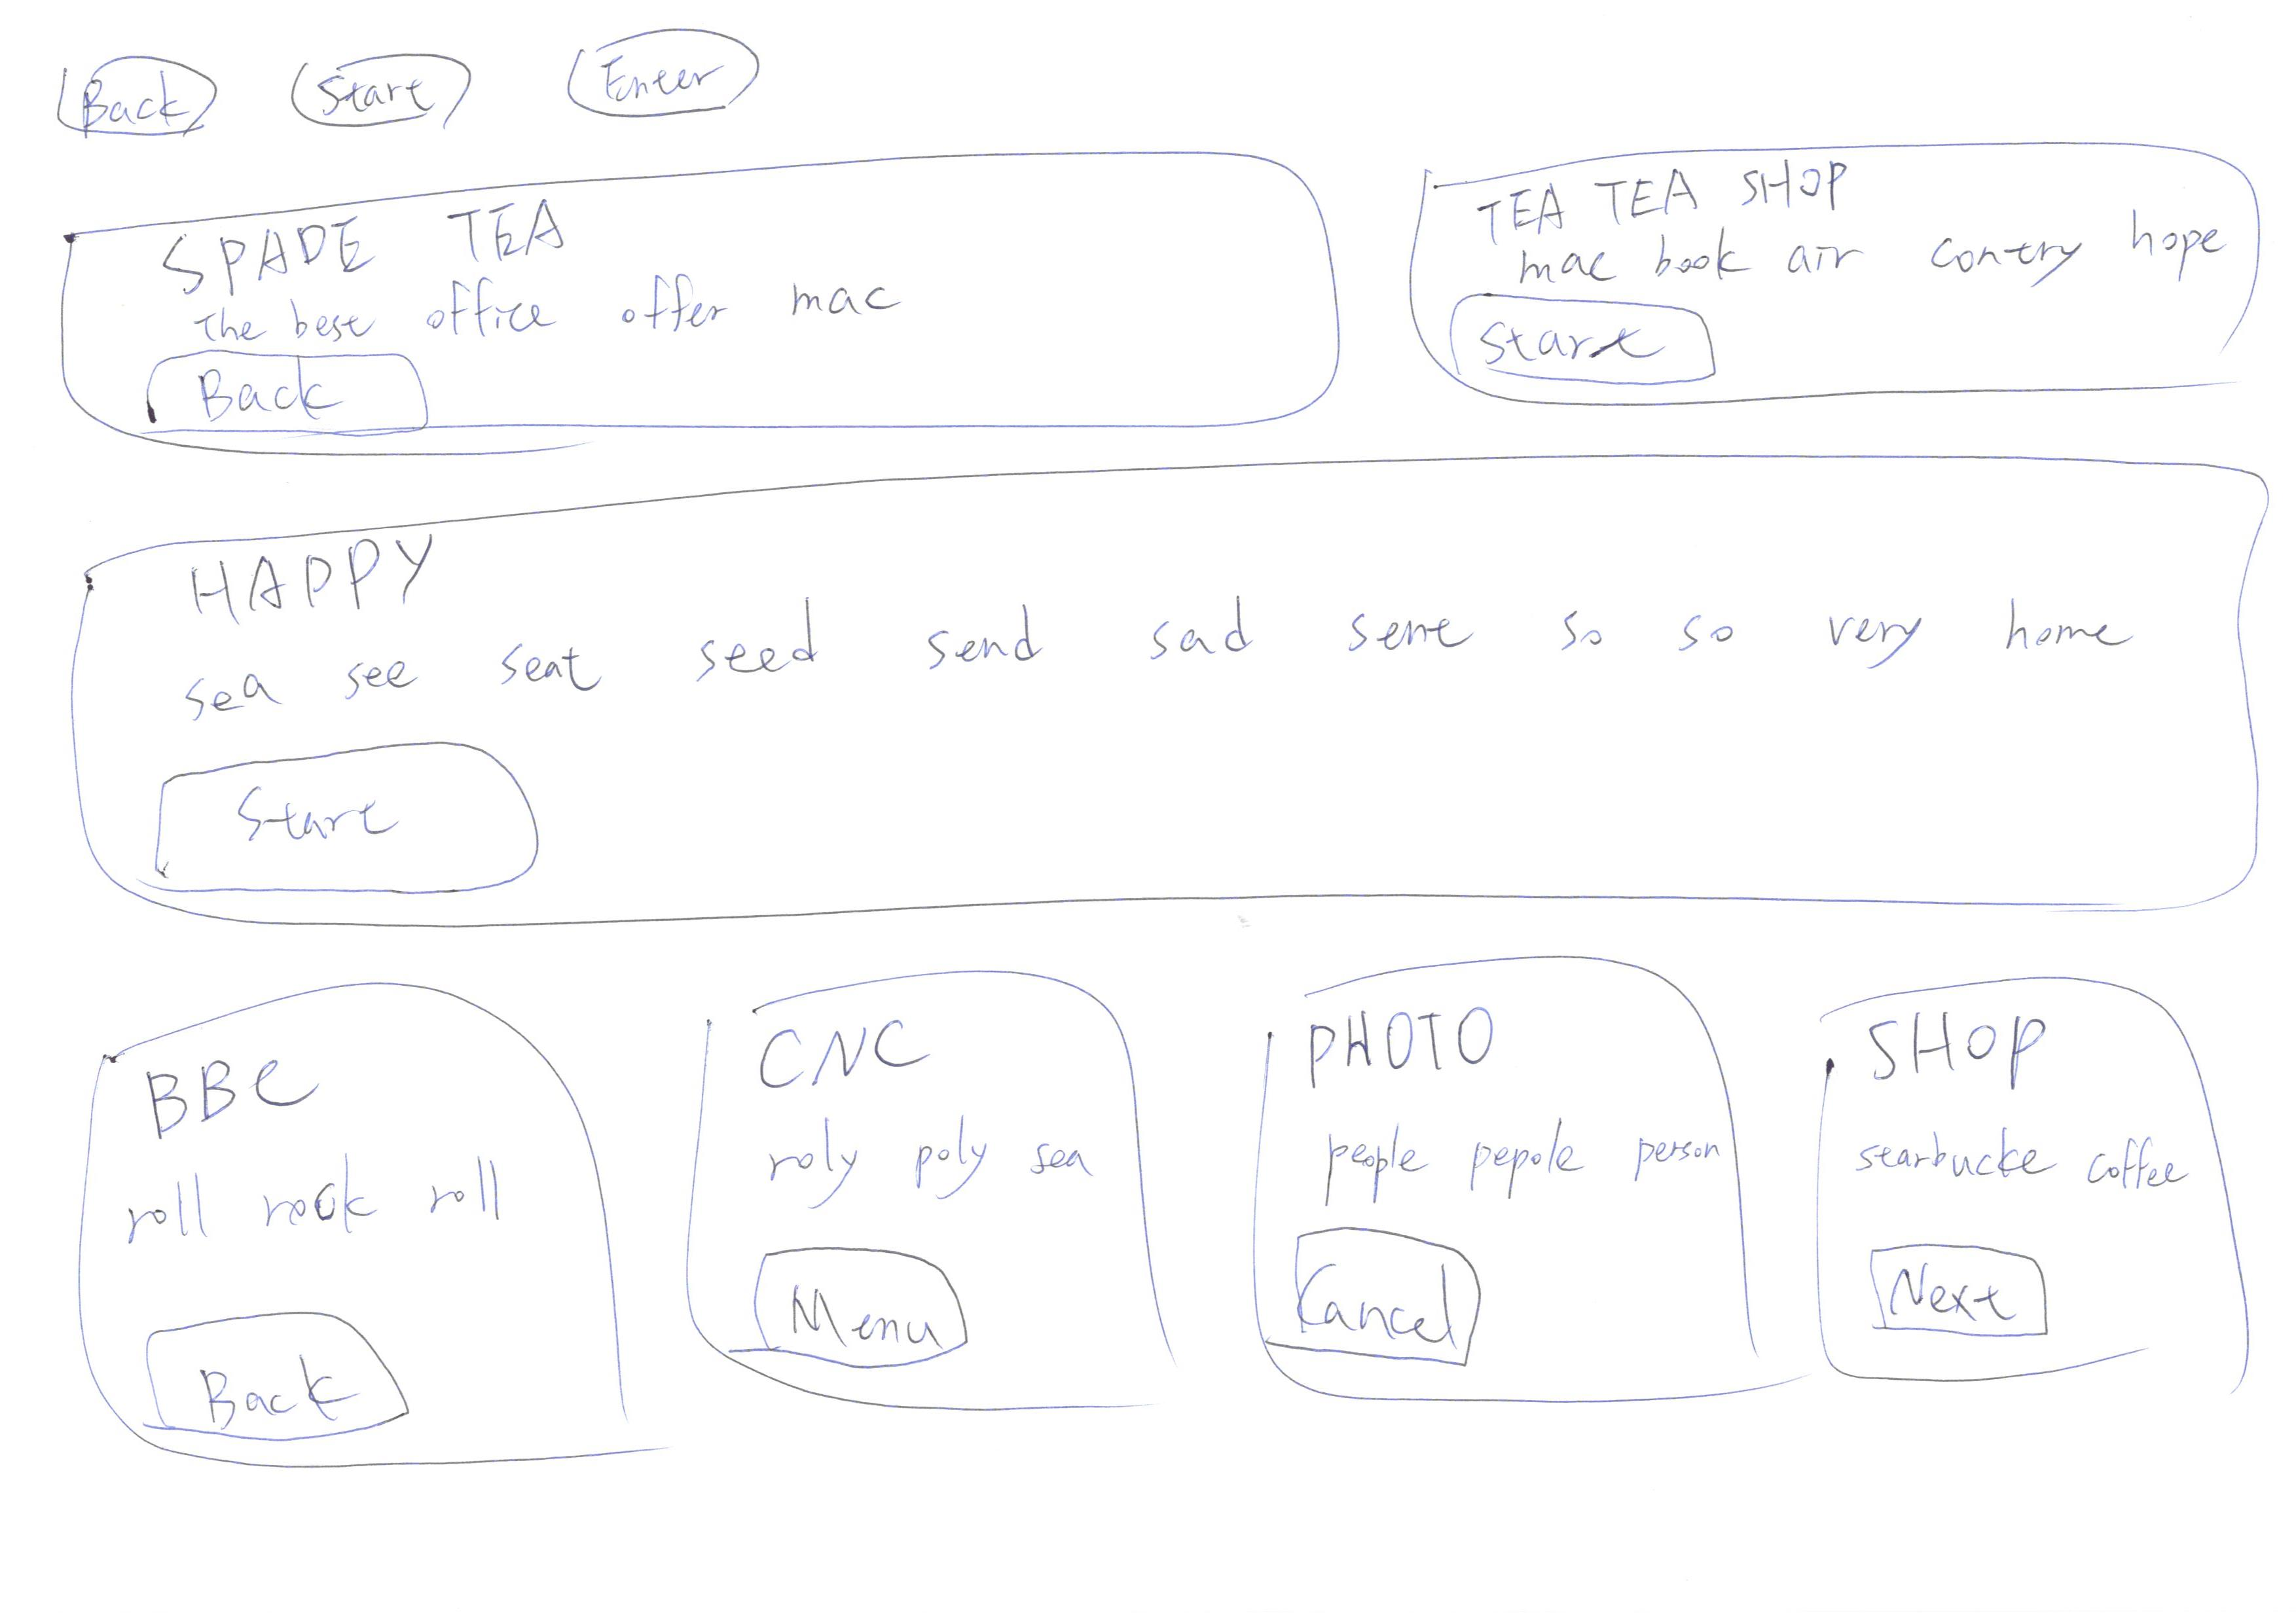back: (118, 332, 478, 487), (127, 1290, 401, 1476), (23, 25, 243, 176)
btn-active: (549, 9, 786, 141)
cancel: (1271, 1209, 1537, 1401)
double: (19, 123, 1359, 453), (1348, 102, 2296, 441)
menu: (721, 1232, 1025, 1410)
next: (1820, 1225, 2087, 1381)
quadruple: (62, 958, 654, 1506), (675, 949, 1211, 1496), (1239, 933, 1783, 1439), (1777, 940, 2257, 1418)
row: (16, 914, 2296, 1531), (16, 439, 2296, 949), (16, 102, 2296, 496), (16, 0, 2291, 155)
single: (49, 438, 2296, 935)
small-title: (144, 207, 598, 265), (1479, 163, 1860, 225), (1856, 997, 2082, 1098), (181, 538, 452, 620), (1297, 995, 1529, 1084), (752, 1002, 944, 1107), (125, 1060, 318, 1128)
start: (84, 721, 592, 932), (1447, 265, 1744, 411), (260, 28, 485, 148)
text: (174, 606, 2136, 689), (1524, 214, 2189, 281), (139, 1164, 547, 1257), (1832, 1104, 2183, 1209), (752, 1111, 1095, 1218), (195, 288, 939, 336), (1297, 1114, 1688, 1204)
